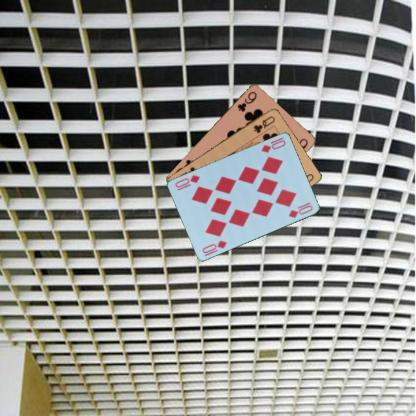10d: (259, 134, 286, 154), (200, 238, 228, 257)
9c: (235, 88, 258, 113)
Qc: (251, 113, 276, 134)
